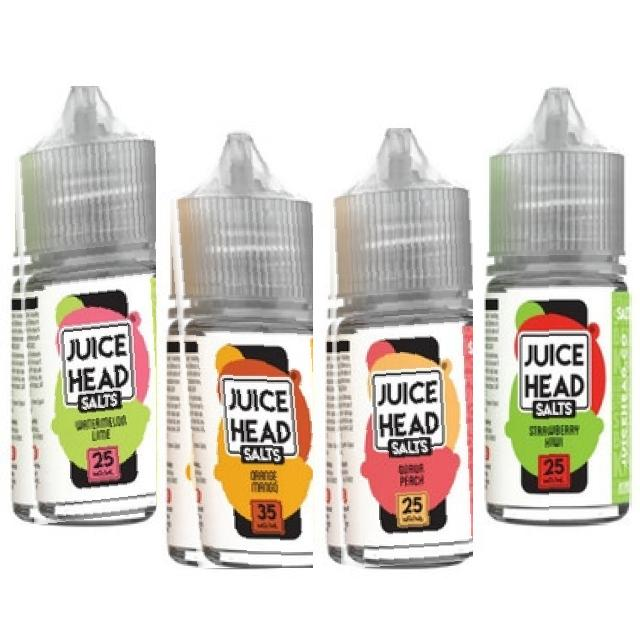Vapes: (322, 128, 473, 569), (162, 128, 313, 568), (482, 86, 632, 525), (8, 86, 156, 525)
